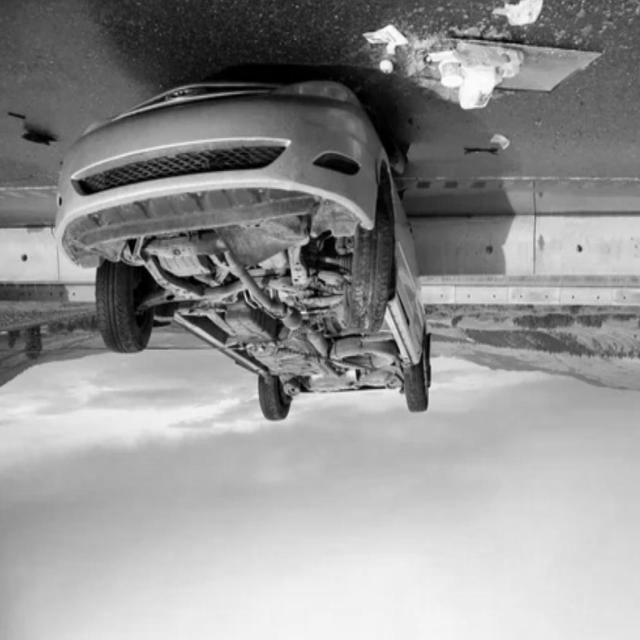severe: (50, 68, 437, 436)
